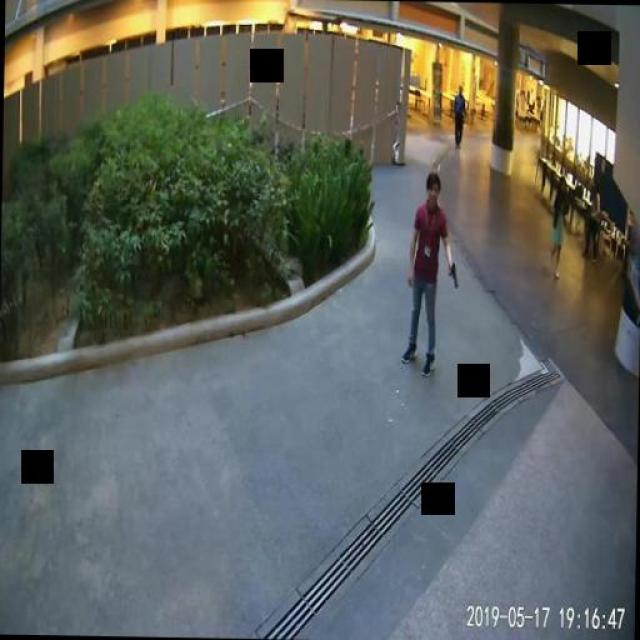gun: (448, 260, 457, 288)
